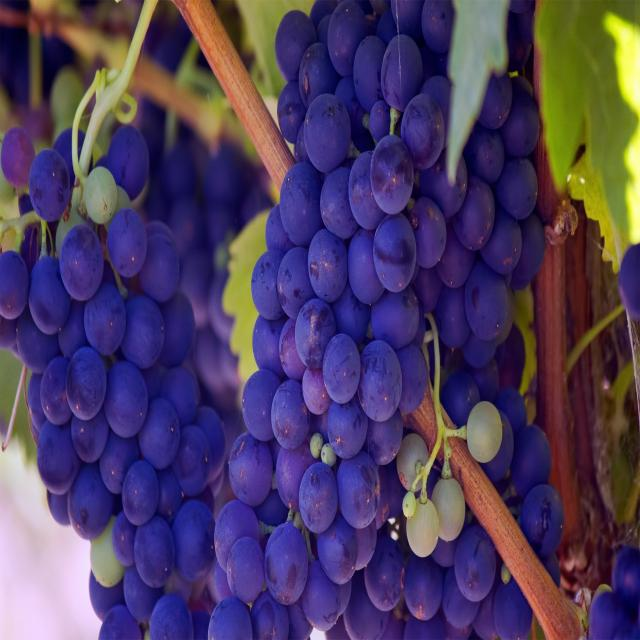grape: (268, 5, 555, 384), (265, 0, 560, 352), (243, 154, 443, 637), (27, 234, 235, 588), (202, 356, 448, 630), (137, 112, 283, 395), (79, 505, 354, 640), (438, 81, 554, 337), (399, 361, 507, 567), (56, 124, 162, 264), (452, 519, 540, 640), (409, 458, 466, 568), (520, 428, 564, 555), (457, 404, 512, 462), (0, 245, 39, 323), (587, 584, 640, 637), (31, 158, 72, 226), (609, 537, 640, 616), (22, 89, 56, 153), (3, 125, 35, 192), (305, 421, 343, 477), (615, 243, 640, 325), (399, 430, 432, 492), (58, 76, 86, 123)
